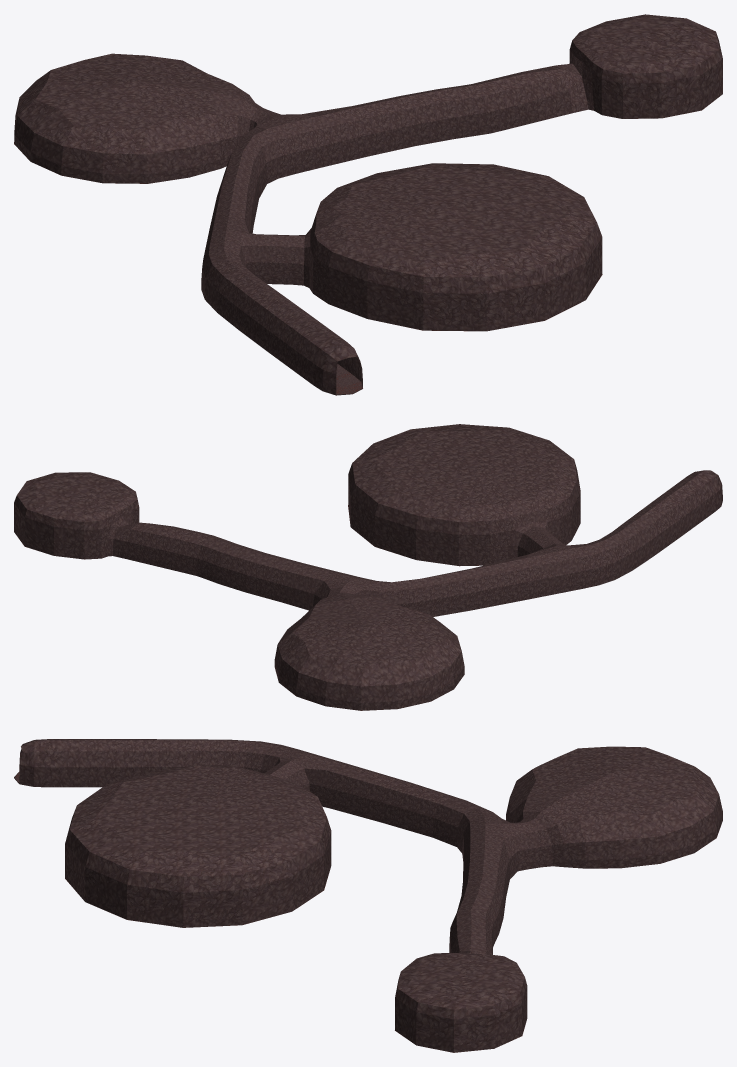
File: Level-One.fbx
3 views of the same model, one above another, from view 1: azimuth 30°, elevation 25°; view 2: azimuth 150°, elevation 25°; view 3: azimuth 270°, elevation 25° (orthographic). The views are drawn at different scales.
Parts seen in each view (by area): view 1: Walls; view 2: Walls; view 3: Walls.
Boxes of the visible parts, bbox=[...] form: Walls: bbox=[14, 14, 722, 395]; Walls: bbox=[14, 424, 722, 710]; Walls: bbox=[14, 739, 722, 1052].
Size of the model in its own units: 3082 by 306 by 3252.
2 materials, 2 textured.
